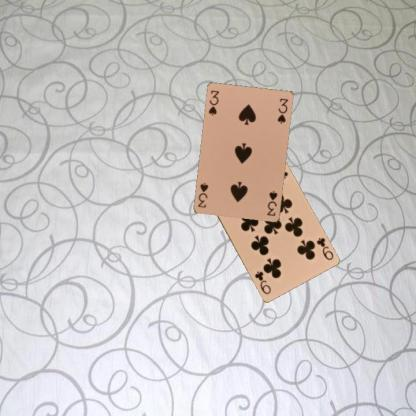3s: (206, 88, 221, 117), (264, 188, 278, 218)
9c: (314, 235, 334, 261)
